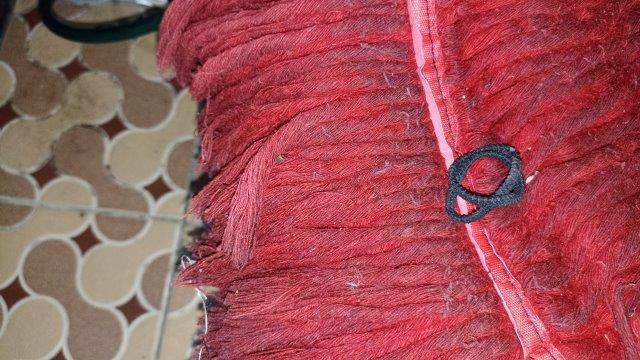karet: (446, 144, 525, 223)
